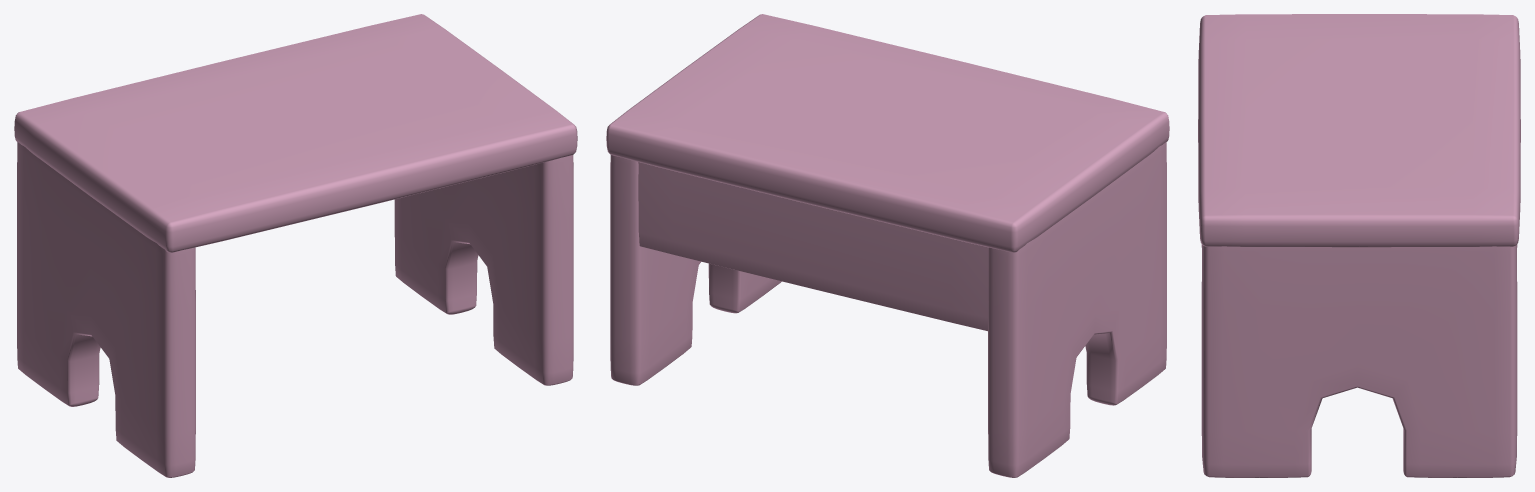
Rendered from desk new material.fbx.
The picture shows the model from 3 angles, left to right: view 1: azimuth 30°, elevation 25°; view 2: azimuth 150°, elevation 25°; view 3: azimuth 270°, elevation 25°; orthographic projection. The views are drawn at different scales.
Parts seen in each view (by area): view 1: polySurface1; view 2: polySurface1; view 3: polySurface1.
Part boxes in pixels (left/top/right/bottom): polySurface1: left=14, top=14, right=577, bottom=477; polySurface1: left=606, top=14, right=1169, bottom=477; polySurface1: left=1198, top=14, right=1520, bottom=477.
Bounding box in the file's own units: 2.34 × 1.4 × 1.54.
